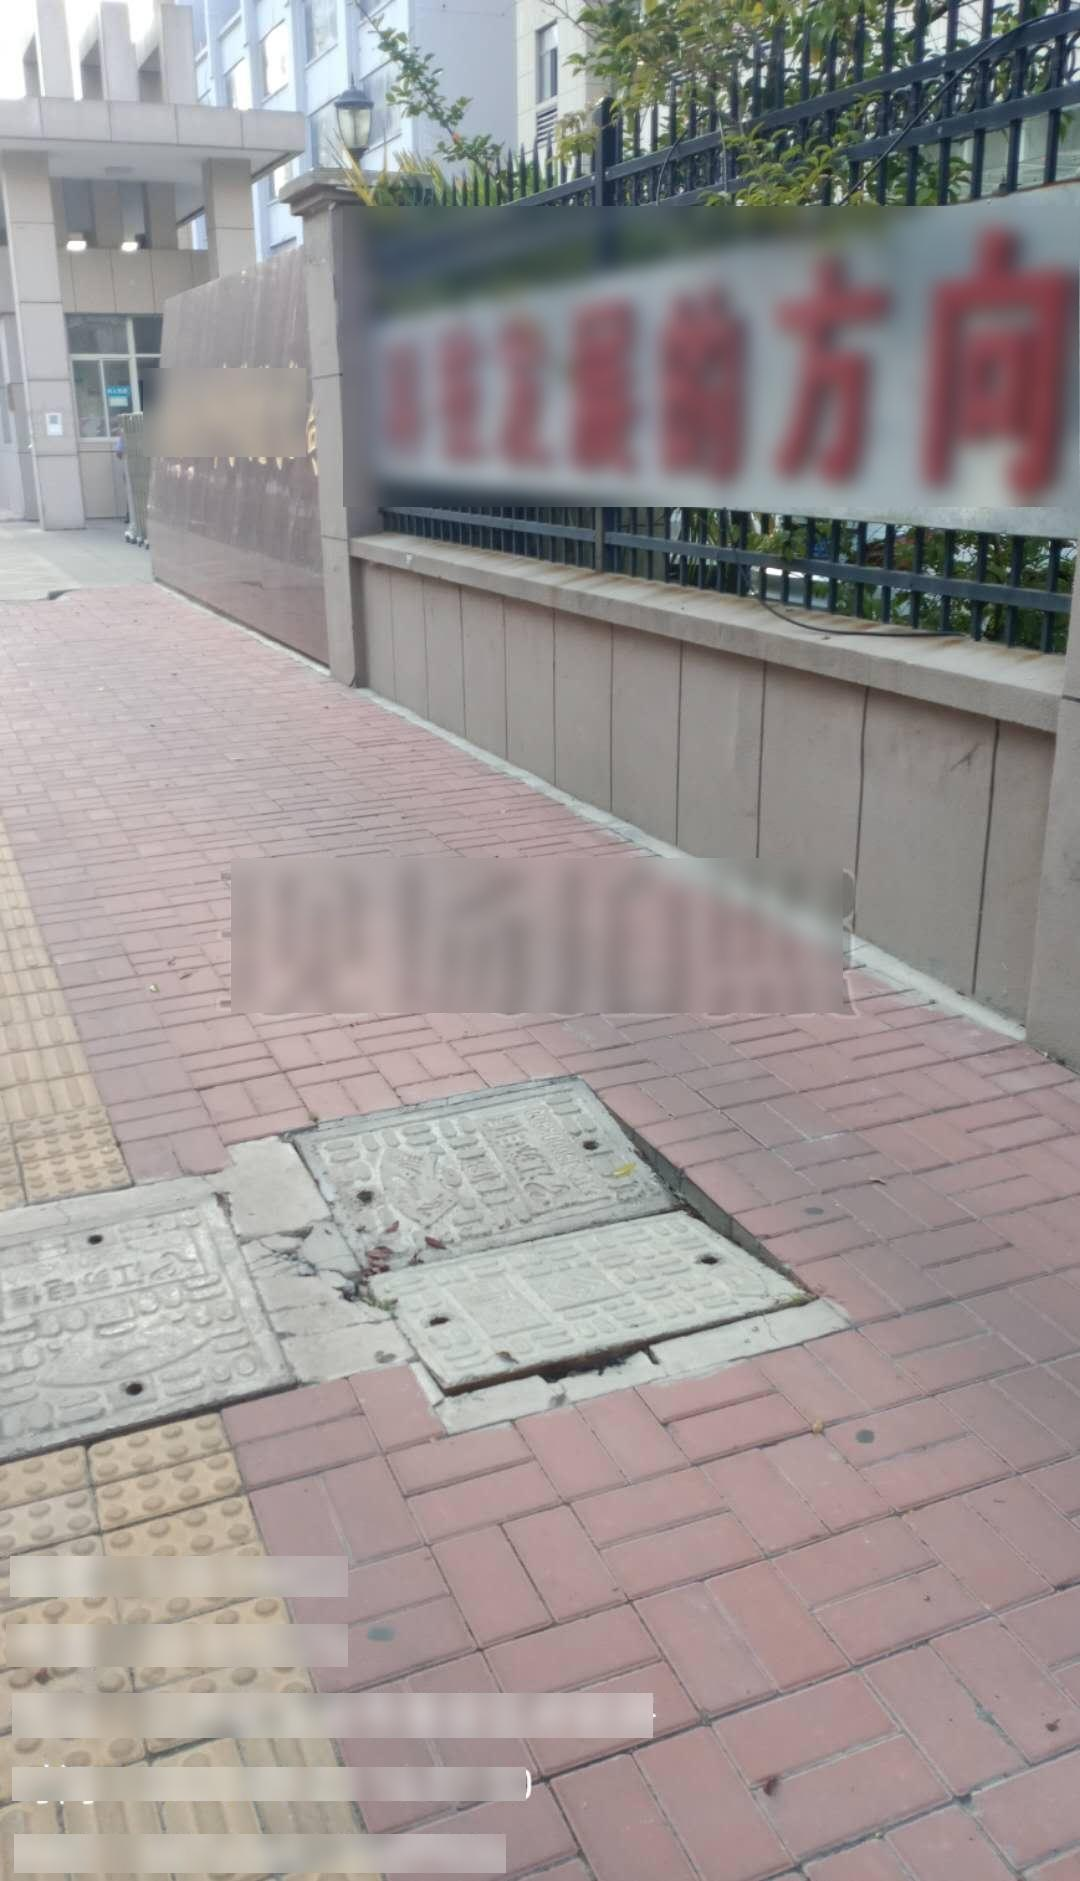wellcover: (265, 1041, 877, 1448), (3, 1156, 315, 1484)
